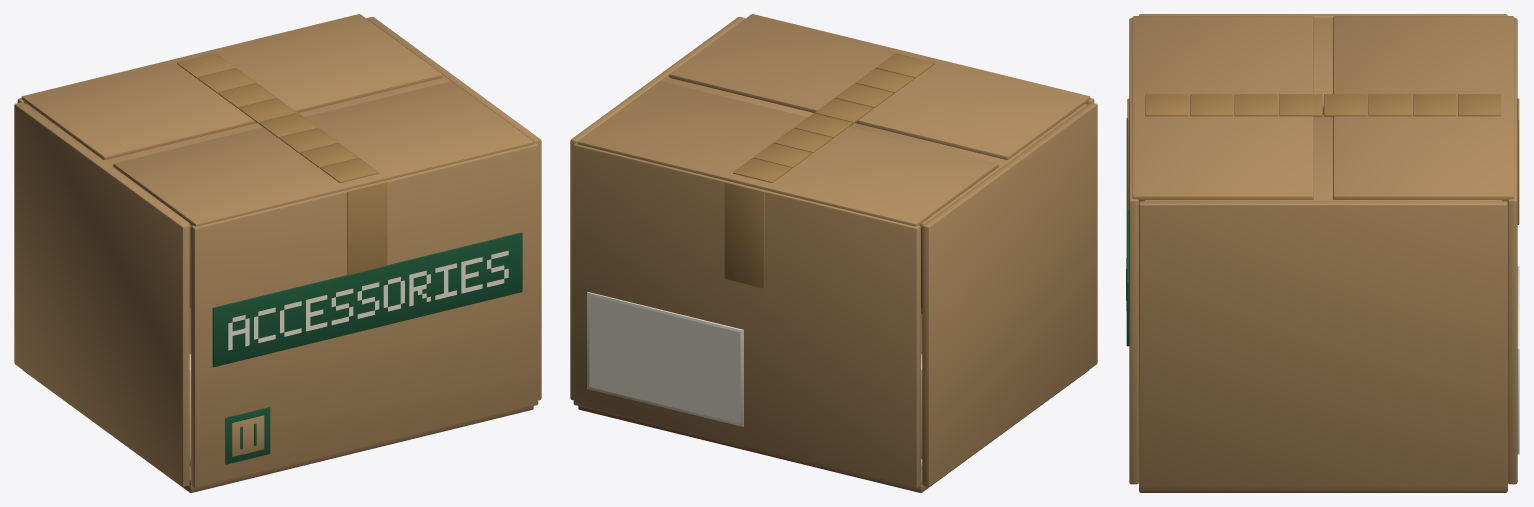
Rendered from delivery_accessory_carton.glb.
3 renders of one model, left to right at view 1: azimuth 30°, elevation 25°; view 2: azimuth 150°, elevation 25°; view 3: azimuth 270°, elevation 25°, orthographic. The views are drawn at different scales.
Visible parts, largest first — view 1: BOX_FRONT, BOX_LEFT, FLAP_TOP_BACK, FLAP_TOP_FRONT, LABEL_MAIN, TAPE_CENTER, LABEL_CATEGORY_TEXT, TAPE_SIDE_FRONT, BOX_RIGHT, BOX_BASE, FLAP_TOP_LEFT, HANDLING_ICON_FRAME (+2 smaller); view 2: BOX_BACK, BOX_LEFT, FLAP_TOP_FRONT, FLAP_TOP_BACK, LABEL_DYNAMIC, TAPE_CENTER, TAPE_SIDE_BACK, BOX_RIGHT, SHIPPING_LABEL_BACKING, BOX_BASE, FLAP_TOP_LEFT, FLAP_TOP_RIGHT; view 3: BOX_RIGHT, FLAP_TOP_BACK, FLAP_TOP_FRONT, TAPE_CENTER, BOX_BACK, BOX_FRONT, FLAP_TOP_RIGHT, BOX_BASE, FLAP_TOP_LEFT, BOX_LEFT, LABEL_MAIN, SHIPPING_LABEL_BACKING.
Boxes of the visible parts, x1,y1,x2,y2 form: BOX_FRONT: (191,142,538,488); BOX_LEFT: (14,102,189,486); FLAP_TOP_BACK: (21,14,442,159); FLAP_TOP_FRONT: (113,81,534,226); LABEL_MAIN: (212,232,522,367); TAPE_CENTER: (177,53,378,182); LABEL_CATEGORY_TEXT: (228,250,508,350); TAPE_SIDE_FRONT: (347,182,387,275); BOX_RIGHT: (366,16,541,400); BOX_BASE: (23,370,533,492); FLAP_TOP_LEFT: (24,104,262,228); HANDLING_ICON_FRAME: (225,407,270,464); BOX_BACK: (573,142,920,488); BOX_LEFT: (922,102,1097,486); FLAP_TOP_FRONT: (669,14,1090,159); FLAP_TOP_BACK: (577,81,998,226); LABEL_DYNAMIC: (589,296,740,423); TAPE_CENTER: (733,53,934,182); TAPE_SIDE_BACK: (724,182,764,288); BOX_RIGHT: (570,16,745,400); SHIPPING_LABEL_BACKING: (587,292,743,426); BOX_BASE: (578,370,1088,492); FLAP_TOP_LEFT: (849,104,1087,228); FLAP_TOP_RIGHT: (660,74,813,116); BOX_RIGHT: (1139,201,1507,488); FLAP_TOP_BACK: (1333,16,1514,201); FLAP_TOP_FRONT: (1132,16,1313,201); TAPE_CENTER: (1145,94,1501,116); BOX_BACK: (1508,18,1517,484); BOX_FRONT: (1129,18,1138,484); FLAP_TOP_RIGHT: (1144,115,1501,201); BOX_BASE: (1139,487,1507,492); FLAP_TOP_LEFT: (1313,18,1332,110); BOX_LEFT: (1139,14,1507,17); LABEL_MAIN: (1126,118,1129,346); SHIPPING_LABEL_BACKING: (1517,266,1519,454).
Size of what is drawn, in the model's own units: 0.42 by 0.3045 by 0.3652.
